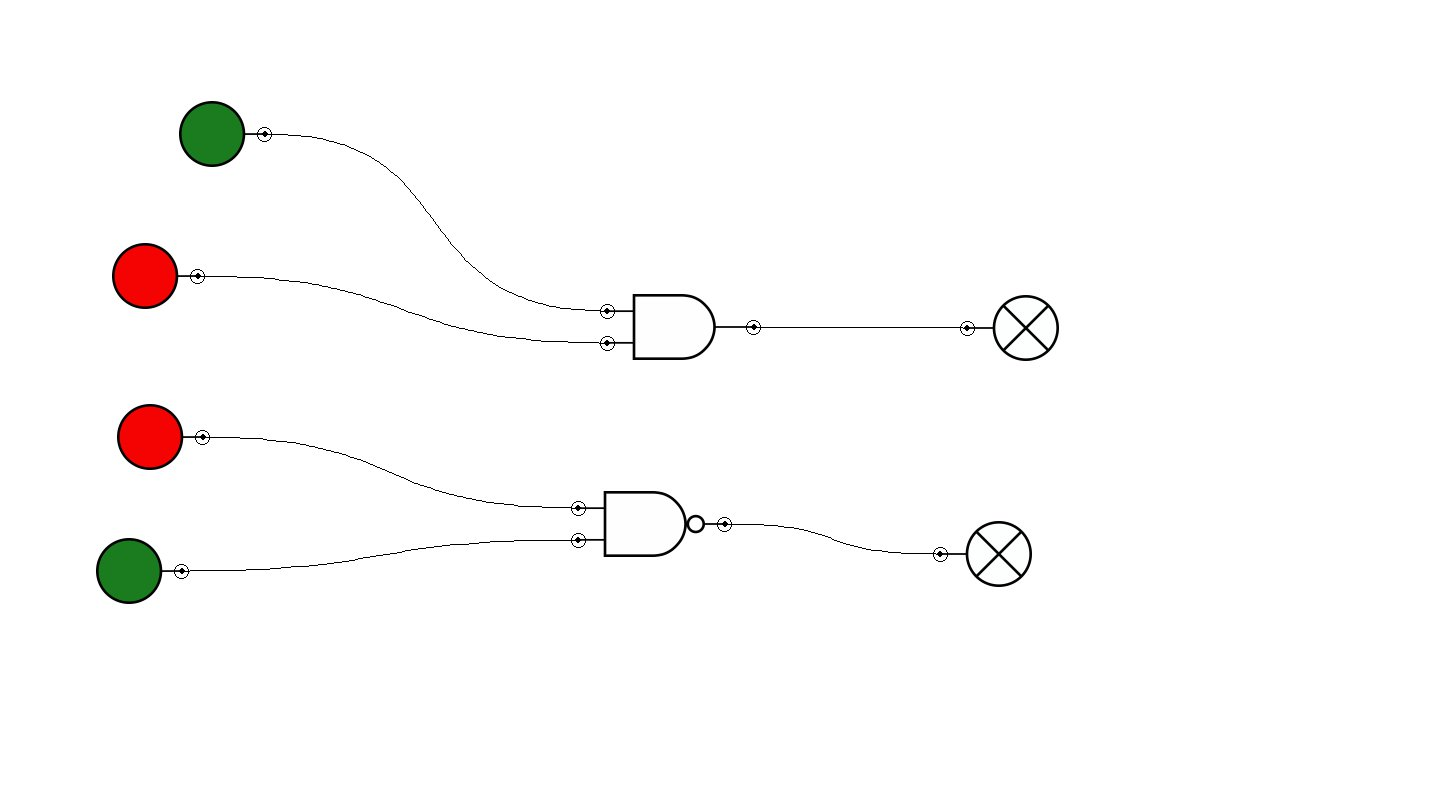and: (600, 294, 761, 360)
bulb: (933, 521, 1032, 587), (960, 295, 1059, 361)
nand: (571, 491, 732, 557)
switch_False: (112, 243, 205, 309), (117, 404, 210, 470)
switch_True: (179, 101, 272, 167), (96, 538, 189, 604)
